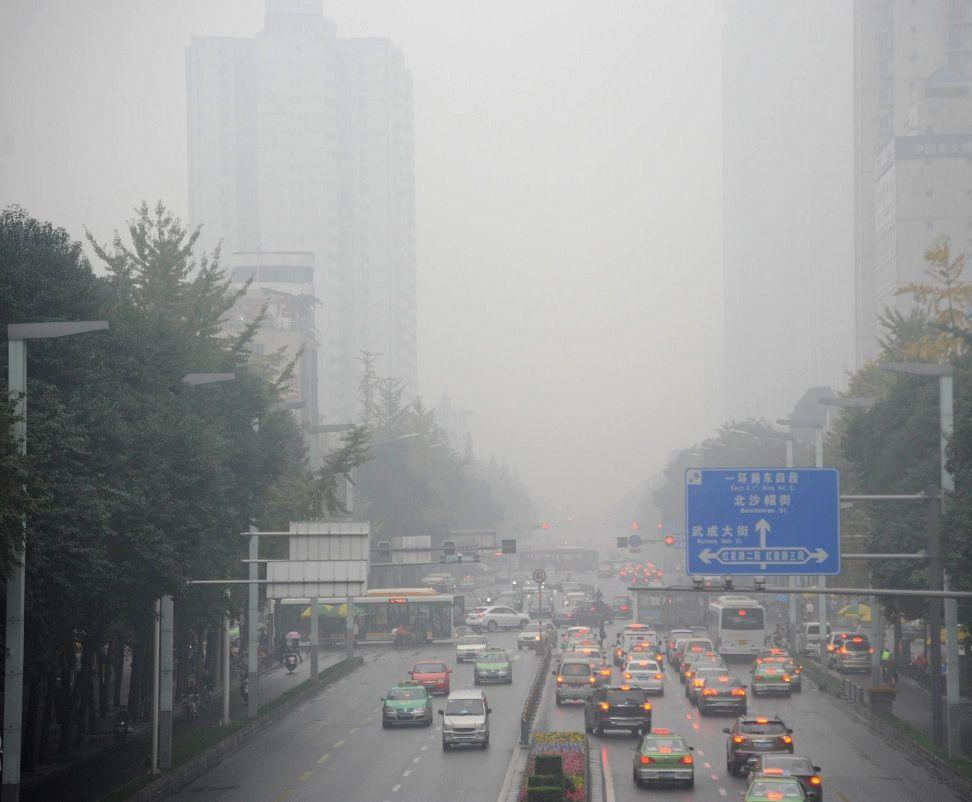bus: (275, 586, 465, 644), (705, 594, 767, 659), (637, 588, 721, 625), (518, 545, 599, 576)
car: (721, 712, 792, 774), (628, 726, 696, 788), (583, 681, 651, 738), (436, 689, 492, 752), (745, 753, 823, 798), (378, 679, 433, 728), (745, 767, 809, 802), (551, 659, 598, 706), (695, 675, 748, 714), (465, 604, 532, 633), (620, 658, 666, 698), (688, 666, 732, 706), (761, 655, 803, 696), (406, 659, 453, 695), (472, 646, 513, 685), (748, 662, 790, 696), (835, 638, 873, 674), (684, 661, 722, 697), (823, 630, 860, 666), (795, 622, 831, 656), (551, 605, 601, 629), (680, 638, 715, 672), (224, 621, 271, 646), (516, 621, 557, 649), (452, 633, 488, 663), (627, 640, 662, 670), (663, 628, 695, 658), (575, 600, 616, 623), (695, 652, 727, 677), (607, 599, 635, 620)
